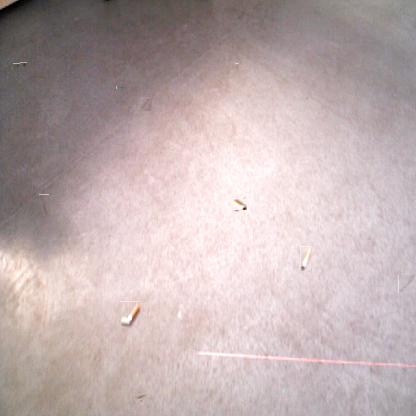dirty: (120, 301, 140, 326), (300, 246, 311, 271), (234, 197, 246, 211)
mark: (398, 276, 416, 293), (39, 194, 49, 217), (139, 98, 151, 110), (135, 391, 145, 401), (118, 84, 126, 91), (13, 62, 20, 69), (20, 61, 27, 68), (235, 63, 239, 70)
